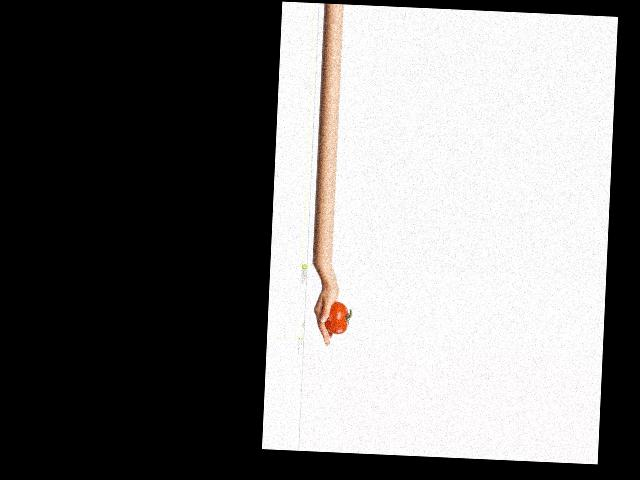tomato: (324, 301, 348, 334)
